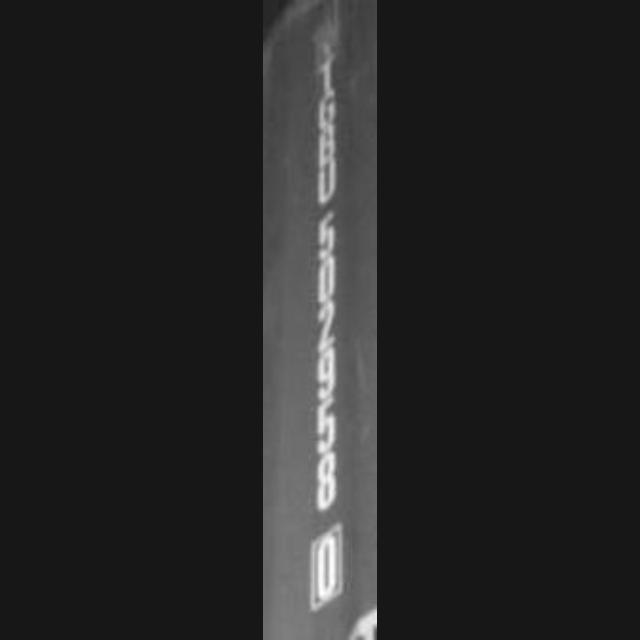0: (314, 534, 342, 604), (316, 258, 342, 300)
2: (317, 301, 343, 353)
5: (317, 209, 339, 257), (316, 402, 338, 450)
8: (314, 448, 342, 514)
9: (316, 350, 340, 400)
b: (314, 126, 342, 164)
g: (312, 94, 350, 128)
i: (314, 54, 346, 92)
u: (315, 162, 341, 204)
